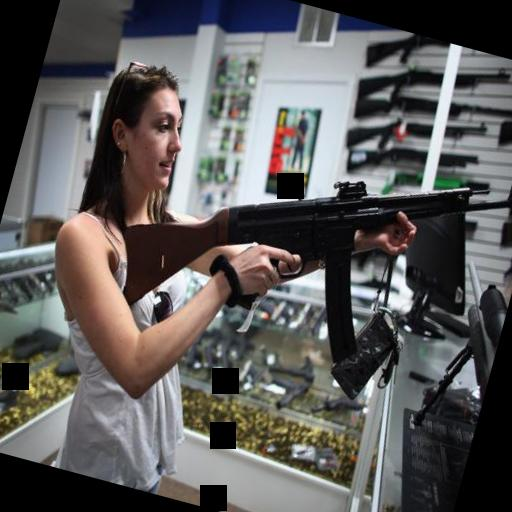Handgun: (256, 363, 310, 420)
